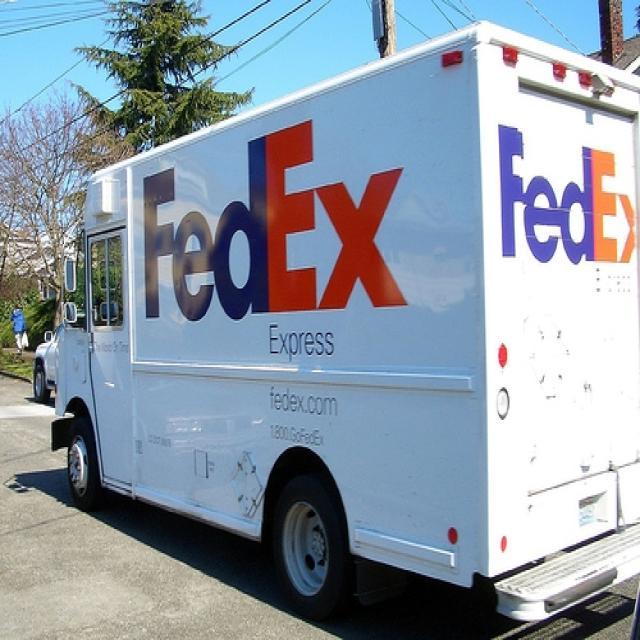fedex: (137, 104, 423, 343), (493, 114, 639, 274)
